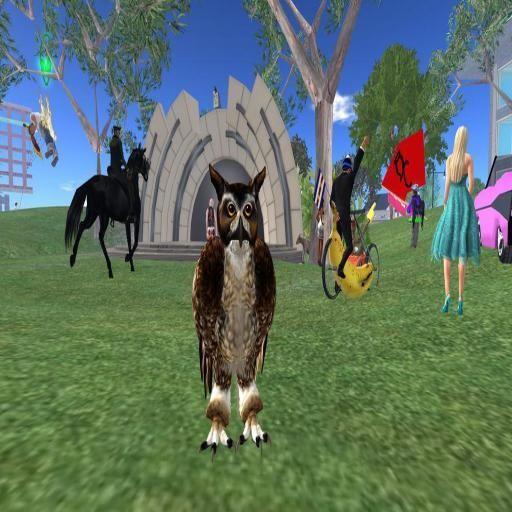Horse: (64, 141, 149, 278)
